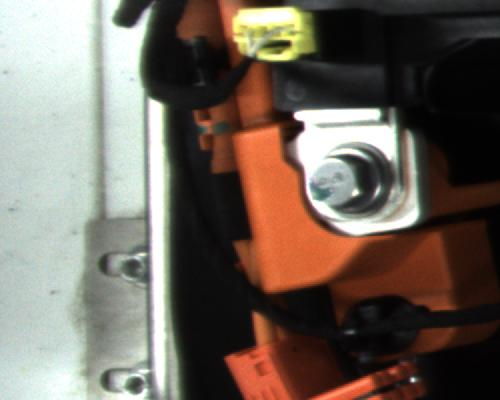nut_b: (301, 136, 391, 226)
